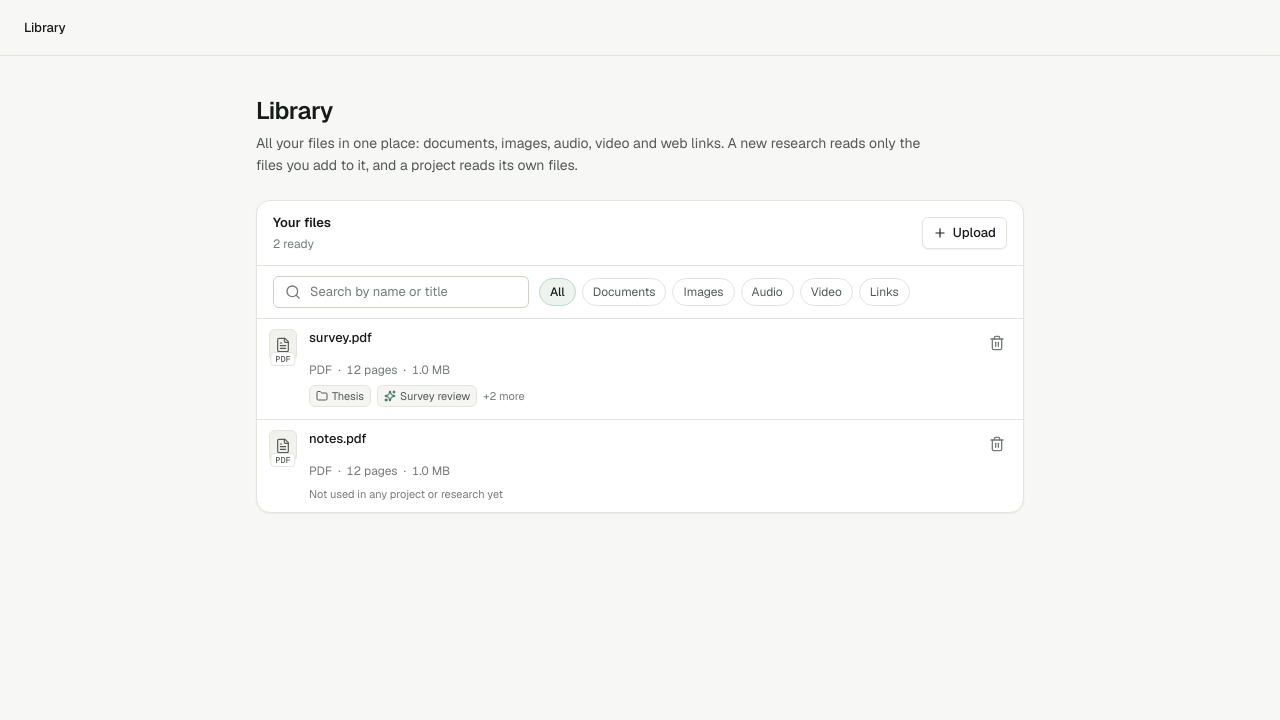
Library page › offers to clear filters when nothing matches
The width and height of the screenshot is (1280, 720).
Expected: the text "survey.pdf" is shown, [309,328,372,346]
Click the button "Video" at (826, 292), box [800,278,853,306]
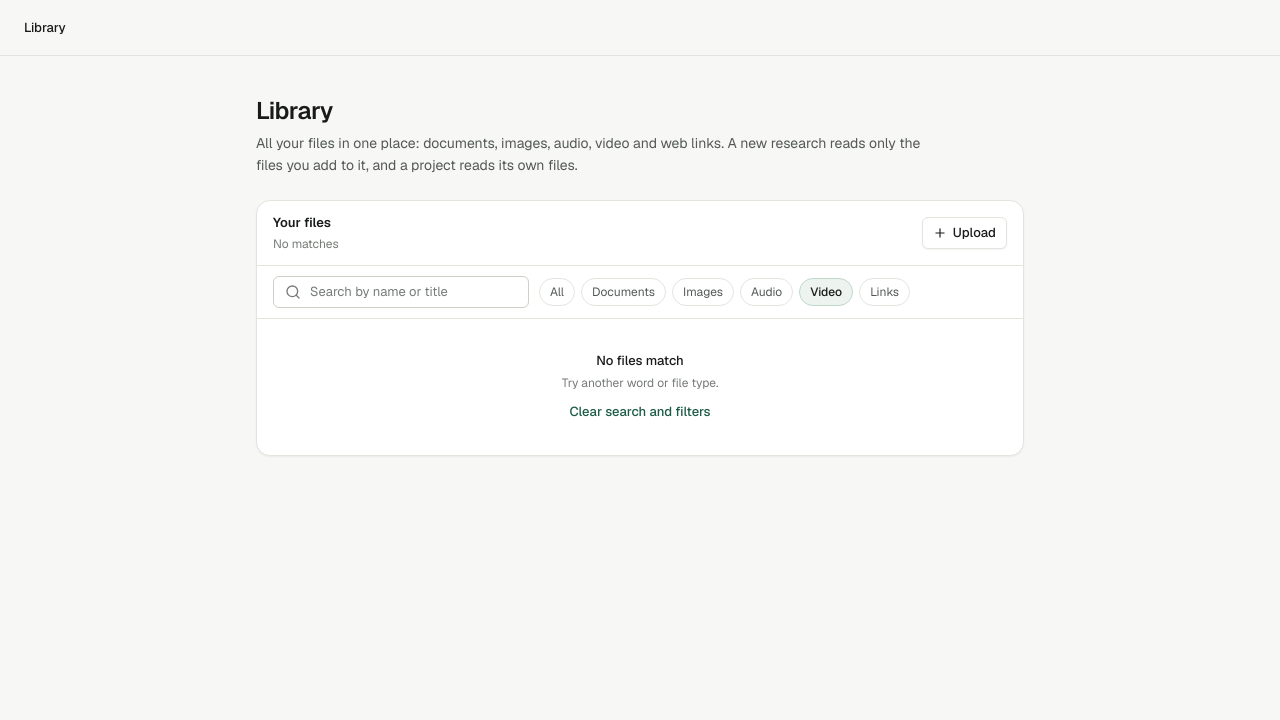
Expected: the text "No files match" is shown, [596,352,684,368]
Click the button "Clear search and filters" at (640, 411), box [569,402,711,421]
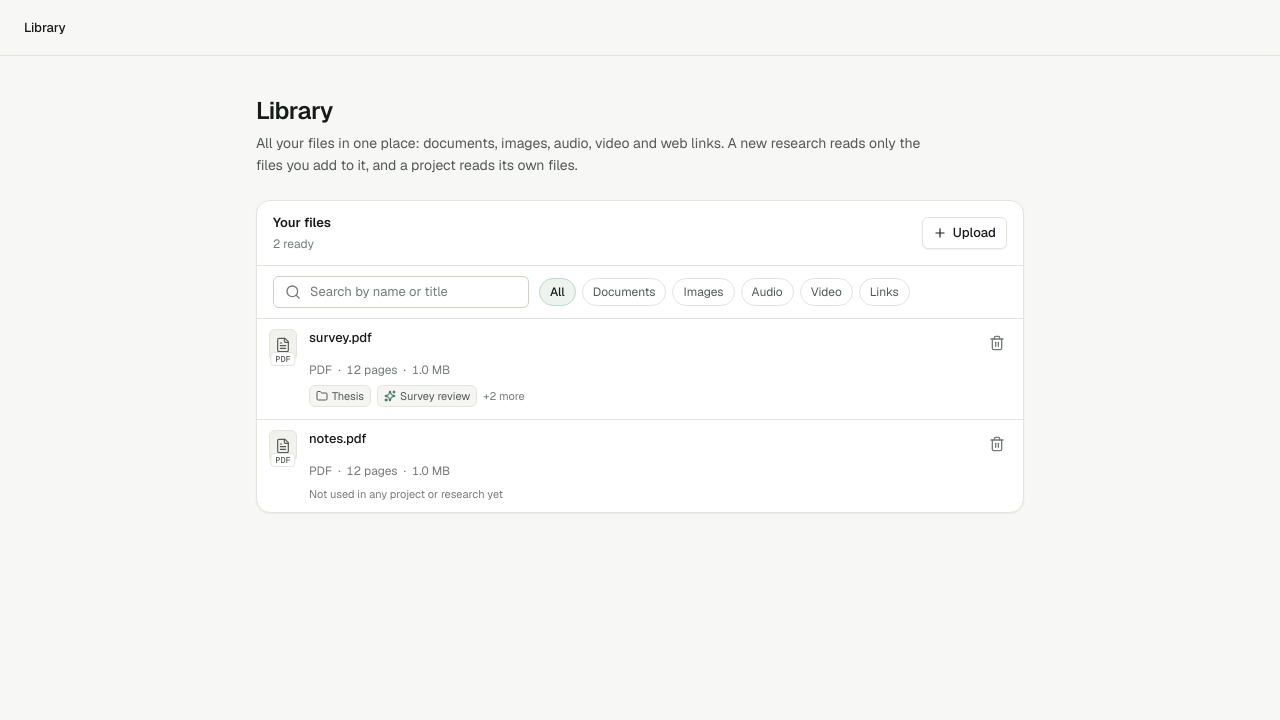
Expected: the text "survey.pdf" is shown, [309,328,372,346]
